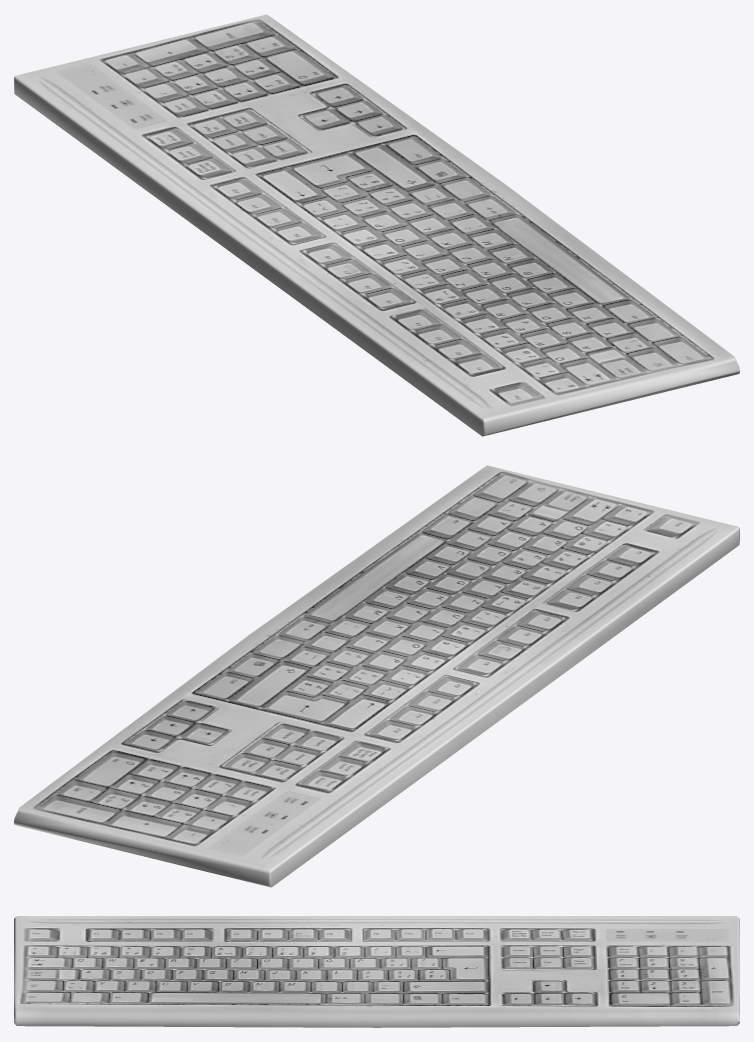
Rendered from keyboard_03.fbx.
3 views of the same model, one above another, from view 1: azimuth 30°, elevation 25°; view 2: azimuth 150°, elevation 25°; view 3: azimuth 270°, elevation 25° (orthographic). The views are drawn at different scales.
Visible parts, largest first — view 1: keyboard_03; view 2: keyboard_03; view 3: keyboard_03.
Part boxes in pixels (box(x1,y1,x2,y2)): keyboard_03: box(14, 14, 739, 436); keyboard_03: box(14, 465, 739, 887); keyboard_03: box(14, 916, 739, 1027).
Size of the model in its own units: 30.09 by 2 by 94.
